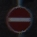No entry: (5, 5, 32, 32)
